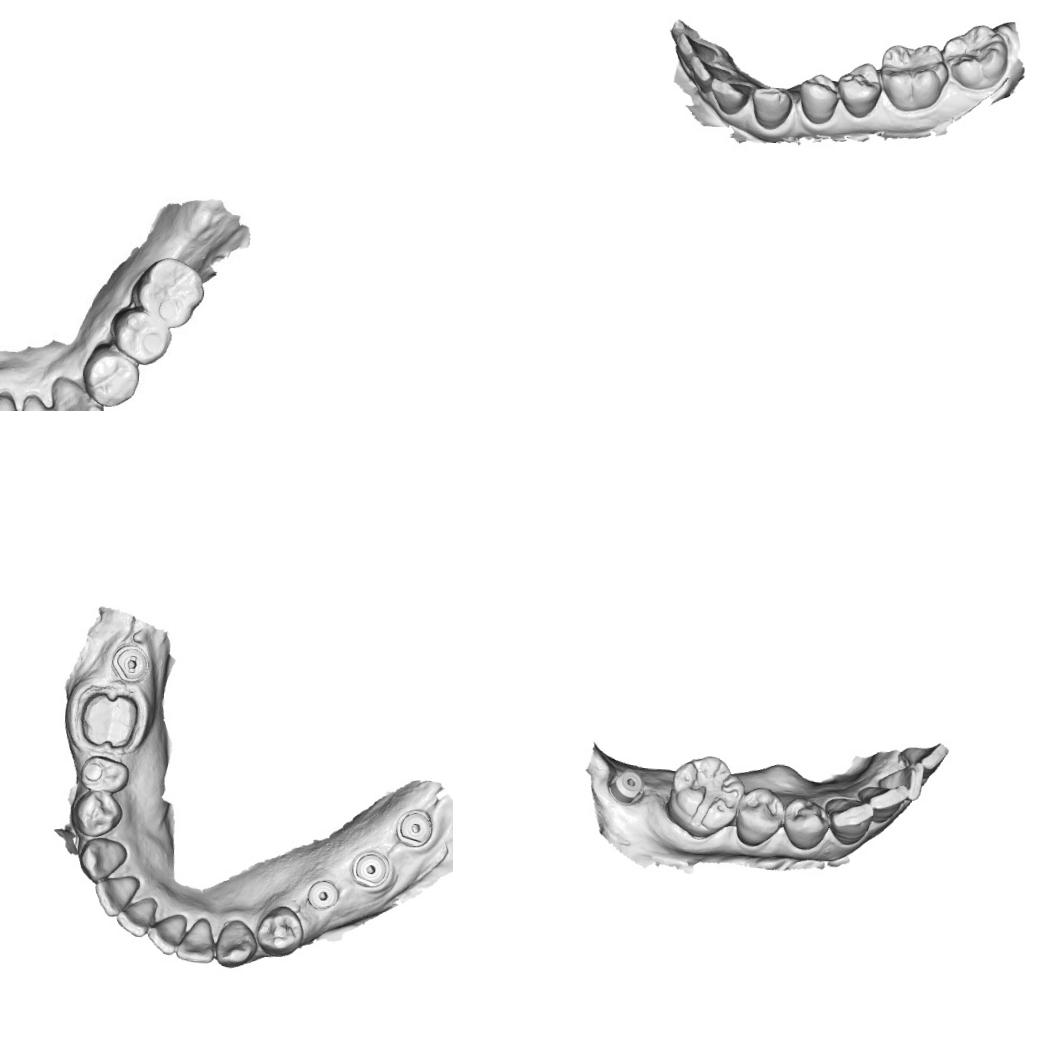canine: (822, 796, 874, 846), (76, 835, 128, 884), (213, 917, 259, 969), (748, 84, 794, 130), (46, 377, 104, 411)
crown: (74, 684, 143, 752)
implant: (605, 764, 648, 808), (348, 847, 390, 889), (393, 808, 433, 848), (304, 878, 340, 912)
implant_minus: (109, 640, 150, 685)
incisor: (91, 872, 141, 920), (856, 780, 908, 826), (875, 758, 924, 802), (174, 914, 216, 965), (896, 739, 948, 780), (114, 892, 158, 938), (145, 910, 187, 956), (707, 75, 752, 116), (672, 30, 718, 68), (687, 55, 726, 94), (14, 387, 69, 411)
molar: (661, 751, 748, 842), (876, 40, 951, 114), (937, 20, 1009, 92), (136, 258, 208, 324)
premolar: (83, 345, 141, 411), (115, 310, 177, 368), (732, 784, 785, 848), (254, 902, 306, 958), (835, 59, 882, 120), (68, 787, 124, 838), (781, 795, 832, 851), (792, 70, 840, 126), (78, 752, 130, 794)
